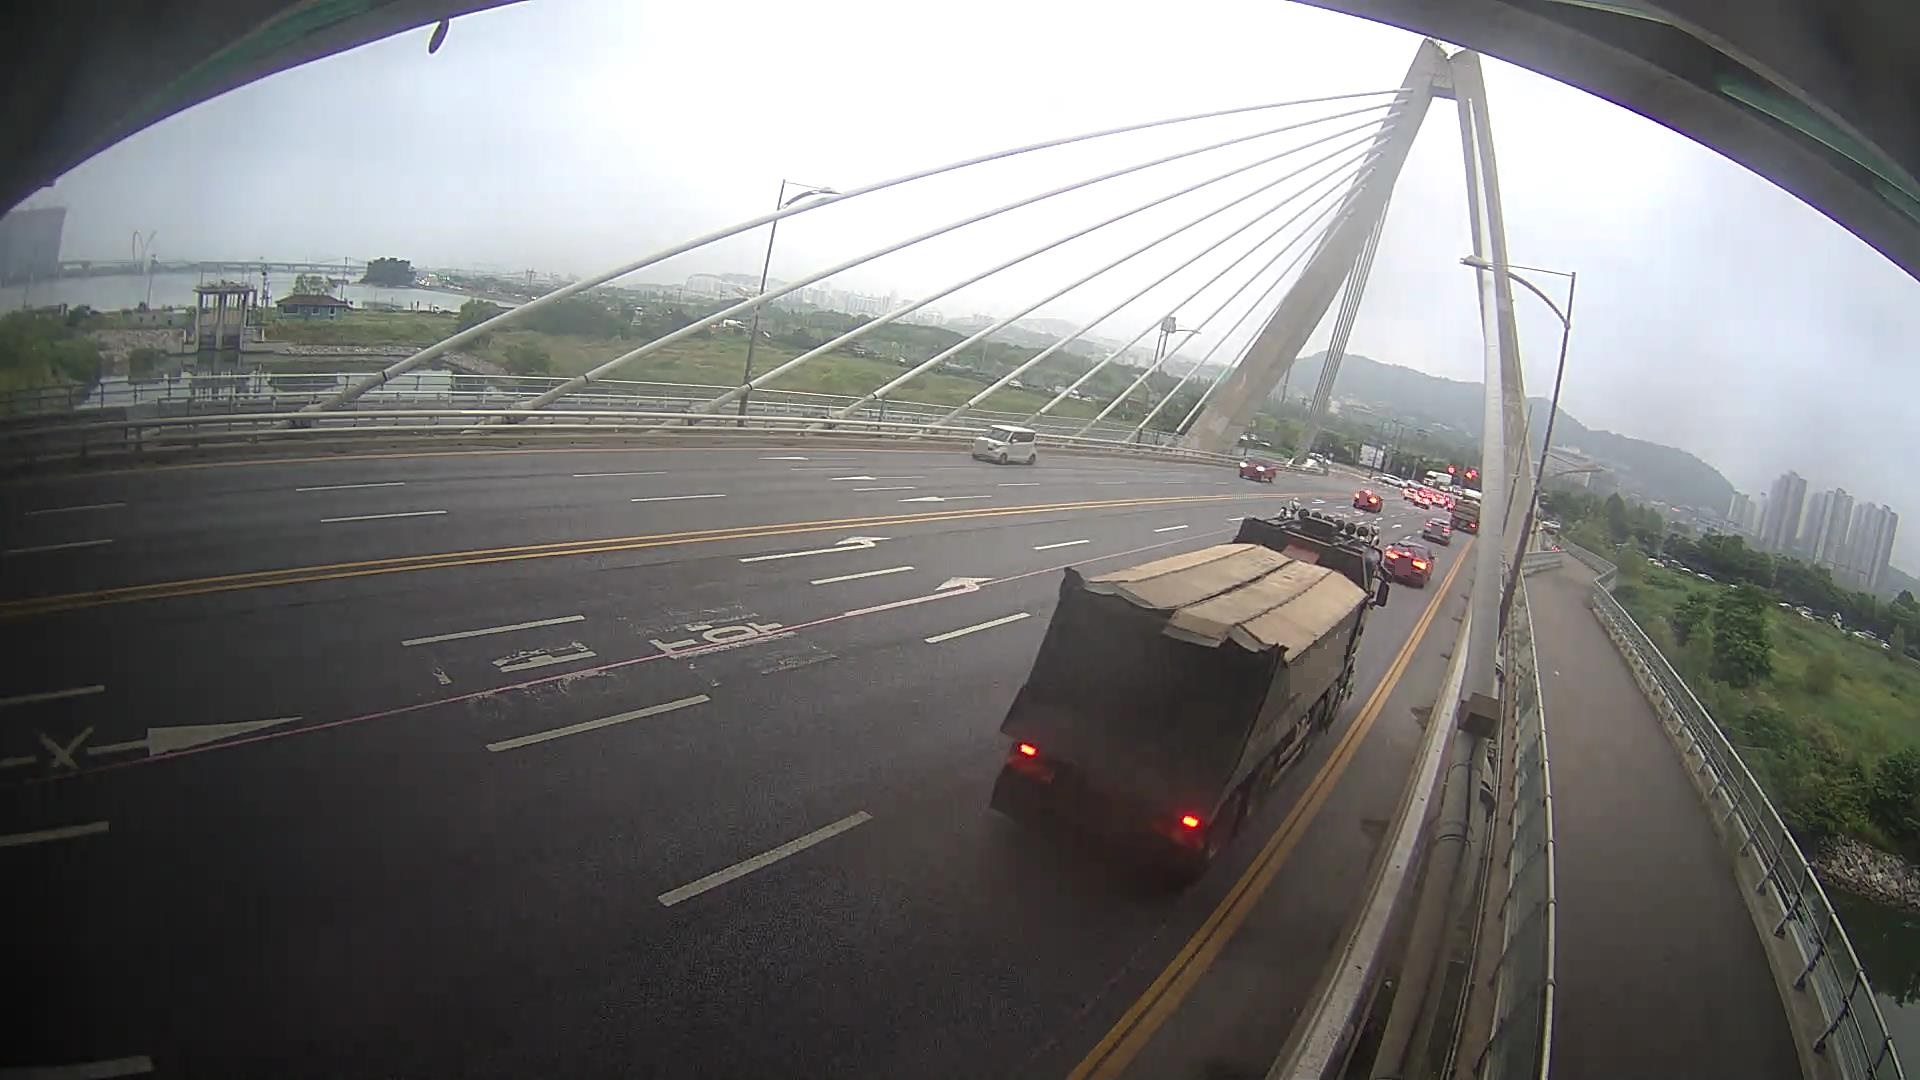정상차량: (988, 497, 1393, 886)
